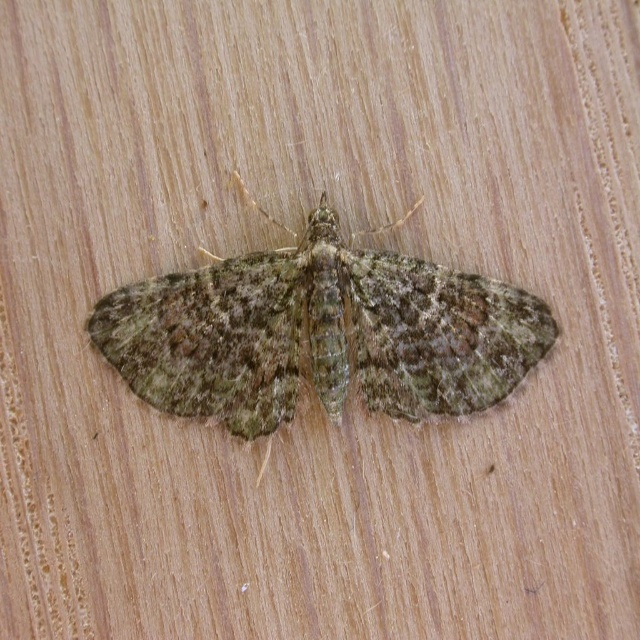Moths and butterflies: (86, 167, 563, 486)
